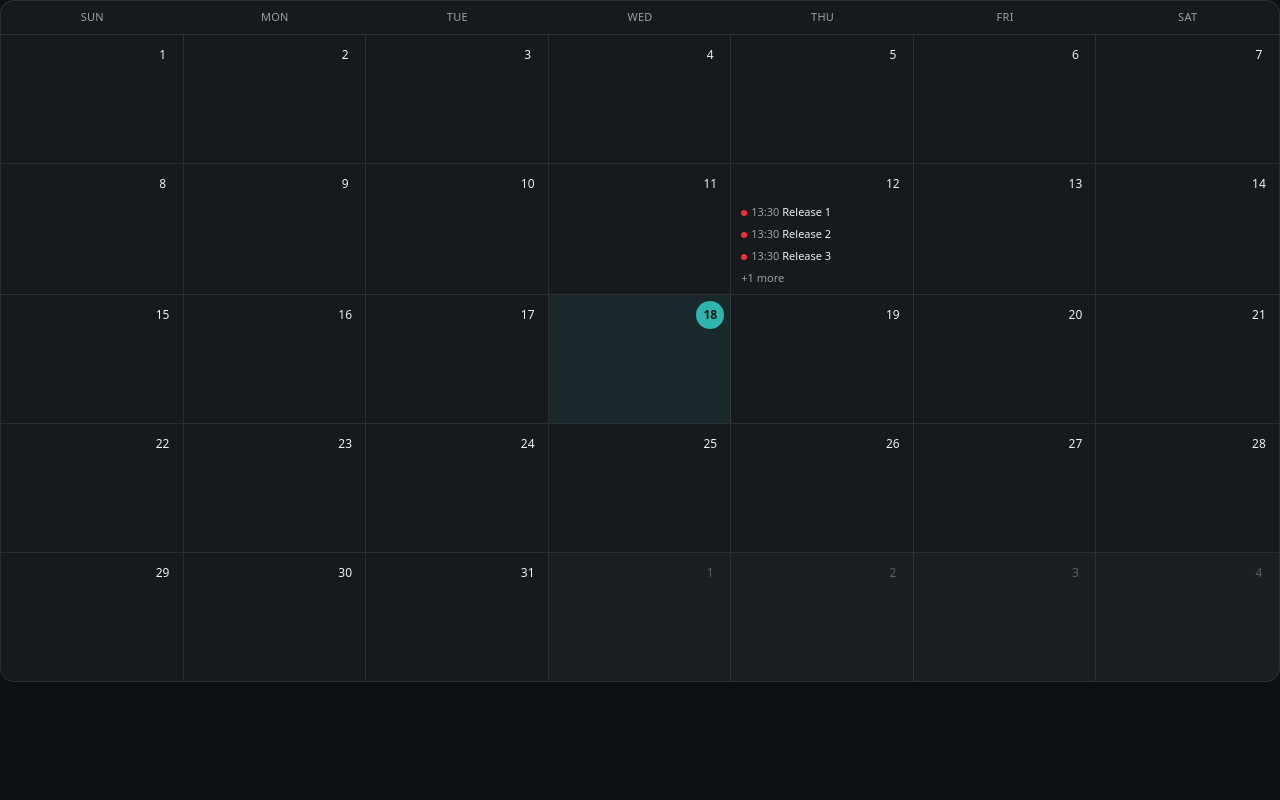
CalendarGrid › caps a crowded day and expands the rest on request
The image size is (1280, 800).
Click the button "+1 more".
click(822, 278)  # box [737, 268, 907, 288]
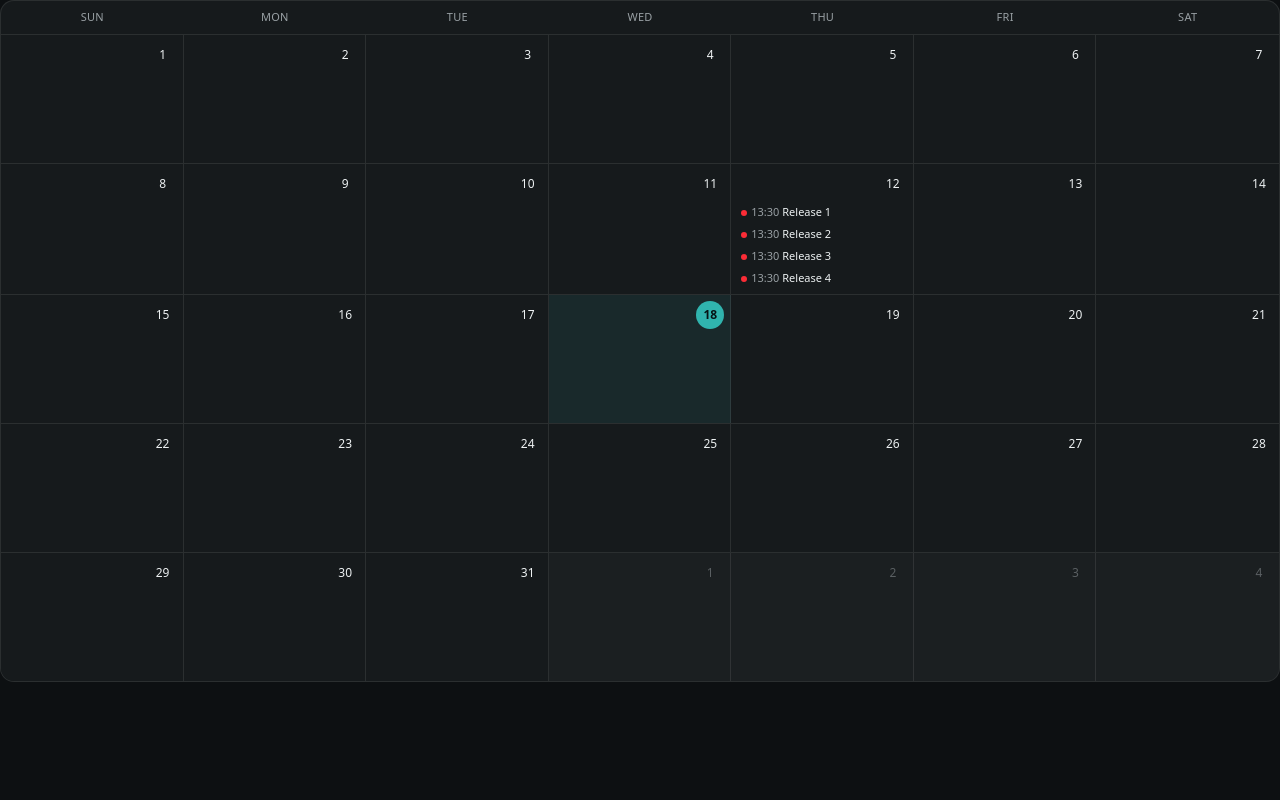
Result: the button with aria-label "Release 4," is shown at [737, 268, 907, 288]
